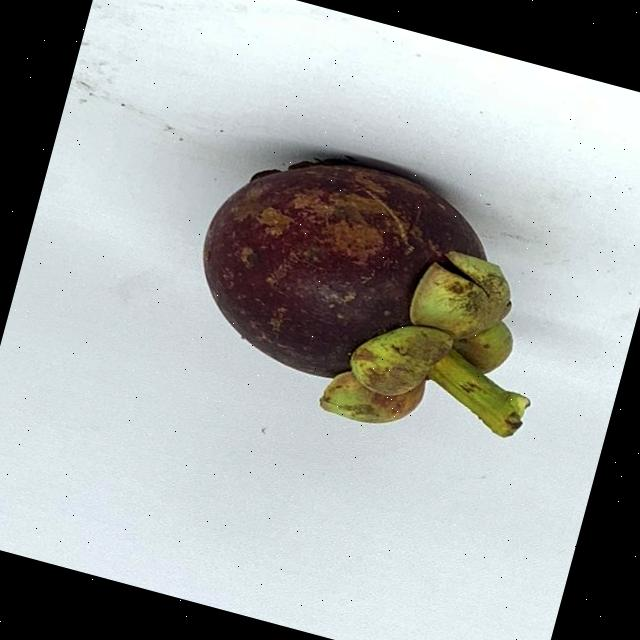mangosteen: (128, 89, 590, 477)
